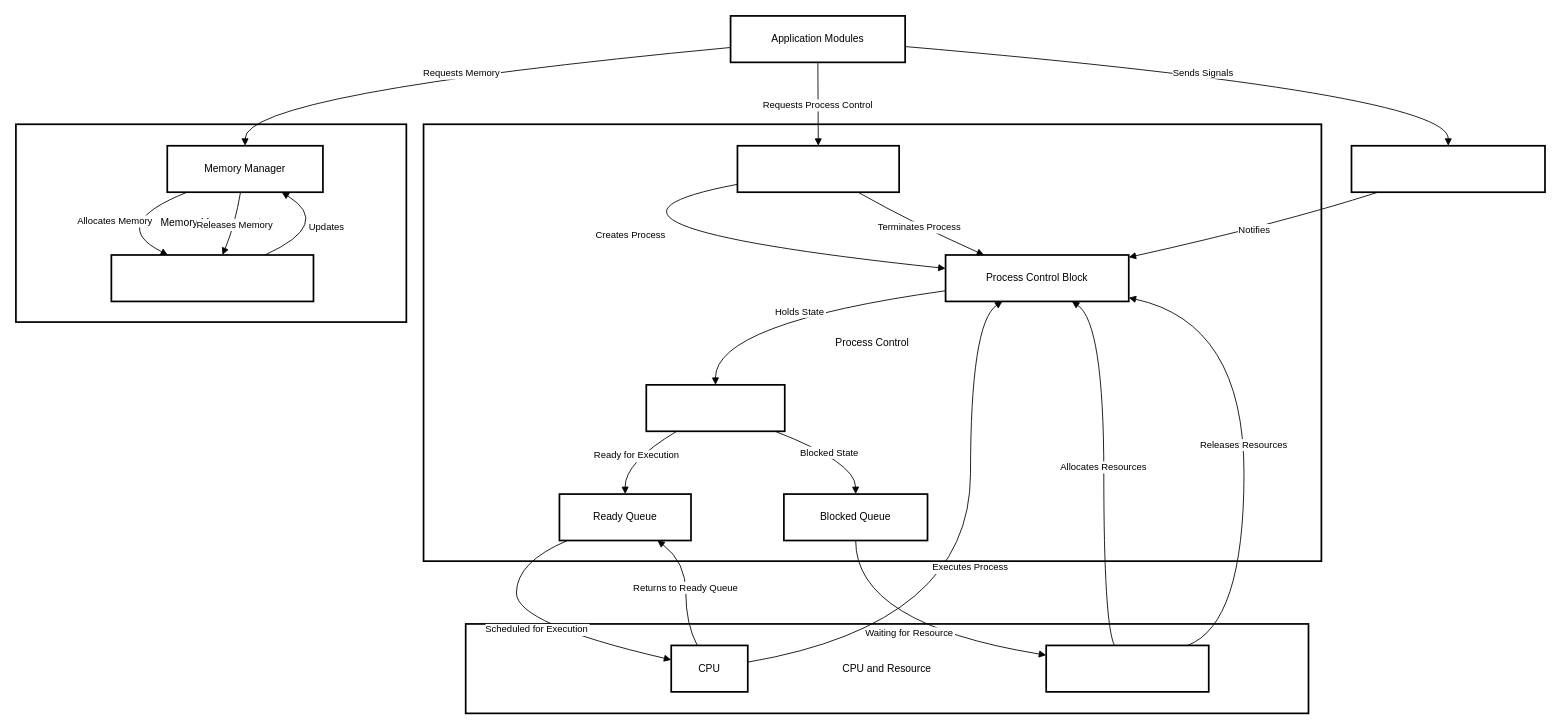
Image size: 1560x728. Some labels were removed from this diagram. The box of each missing label's shape, as (x1, y1, x2, y2) in pixels:
Memory Allocation Table: (110, 254, 314, 302)
Process Scheduler: (736, 144, 900, 193)
Process States: (645, 384, 785, 432)
Resource Manager: (1045, 644, 1209, 692)
Signal Handling Module: (1350, 144, 1545, 193)
